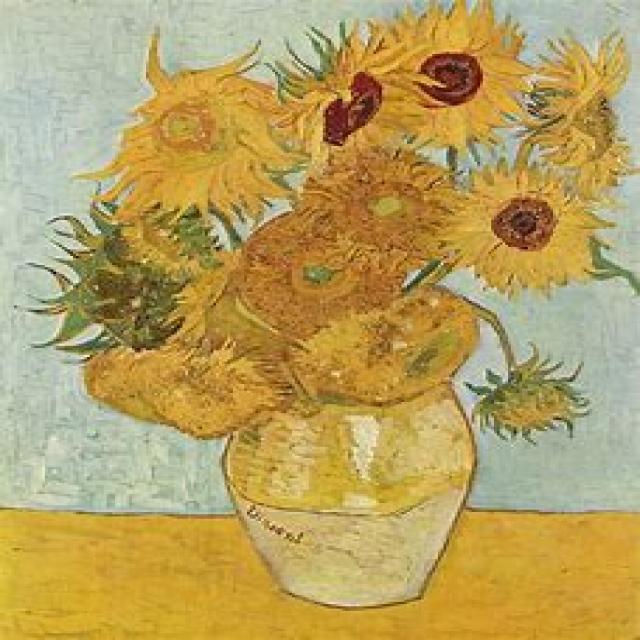sunflower: (6, 4, 631, 636)
